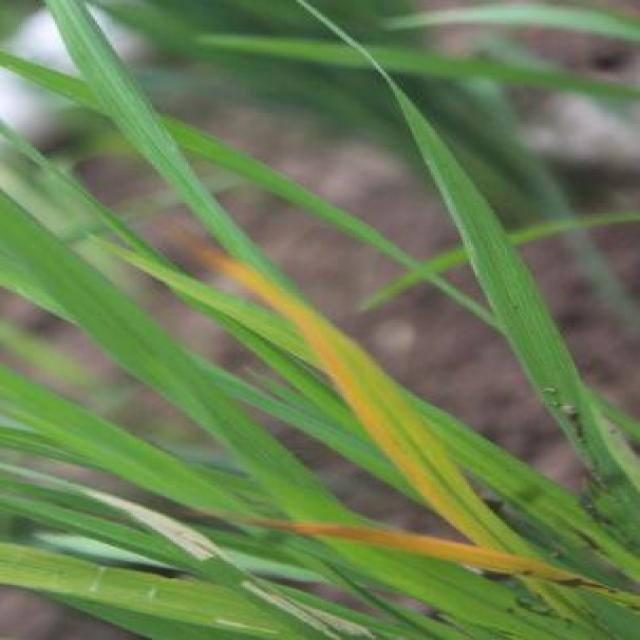Tungro: (182, 227, 462, 499), (243, 508, 597, 595)
